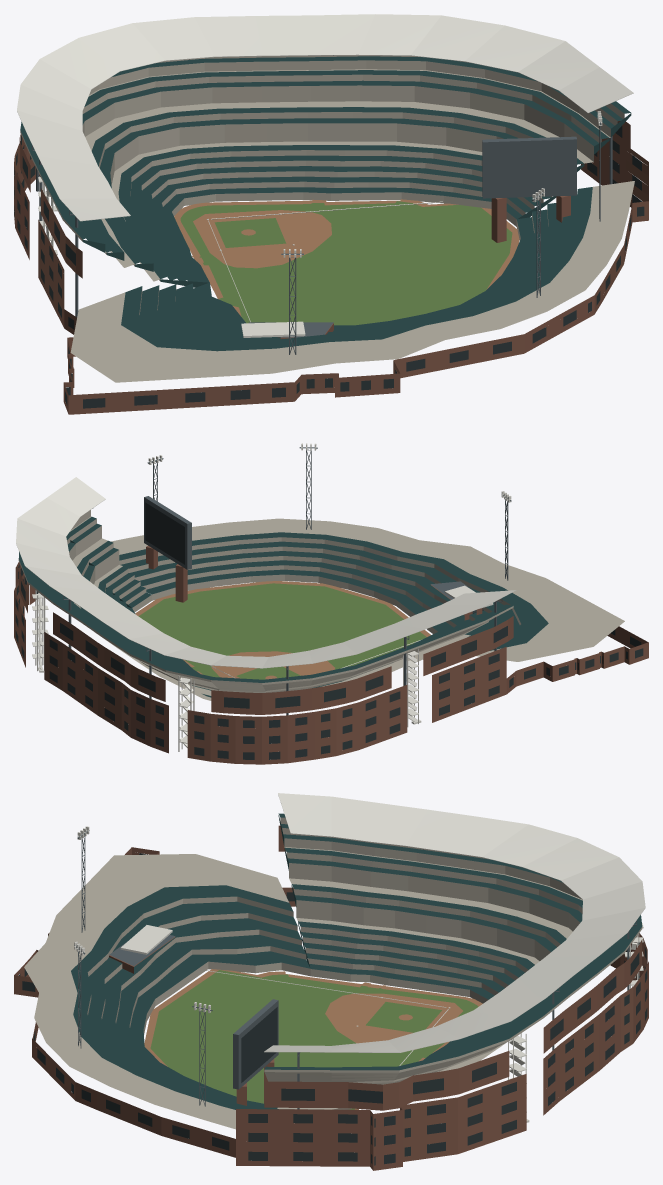
The model's file is truist-park-far.glb.
3 views of the same model, one above another, from view 1: azimuth 30°, elevation 25°; view 2: azimuth 150°, elevation 25°; view 3: azimuth 270°, elevation 25° (orthographic). The views are drawn at different scales.
Visible parts, largest first — view 1: truist-park-0-concrete, truist-park-0-seat, truist-park-0-roof, truist-park-0-grass, truist-park-0-brick, truist-park-0-steel, truist-park-0-dirt, truist-park-0-glow; view 2: truist-park-0-brick, truist-park-0-concrete, truist-park-0-seat, truist-park-0-roof, truist-park-0-grass, truist-park-0-glow, truist-park-0-steel, truist-park-0-dirt; view 3: truist-park-0-concrete, truist-park-0-seat, truist-park-0-brick, truist-park-0-roof, truist-park-0-grass, truist-park-0-glow, truist-park-0-dirt, truist-park-0-steel.
Part boxes in pixels (box(x1,y1,x2,y2)): truist-park-0-concrete: box(20, 55, 634, 382); truist-park-0-seat: box(20, 56, 631, 351); truist-park-0-roof: box(17, 14, 633, 337); truist-park-0-grass: box(180, 201, 512, 325); truist-park-0-brick: box(14, 121, 648, 414); truist-park-0-steel: box(32, 55, 612, 354); truist-park-0-dirt: box(174, 199, 519, 316); truist-park-0-glow: box(14, 126, 644, 408); truist-park-0-brick: box(14, 545, 648, 764); truist-park-0-concrete: box(18, 510, 624, 700); truist-park-0-seat: box(18, 517, 548, 697); truist-park-0-roof: box(16, 443, 516, 751); truist-park-0-grass: box(138, 583, 426, 679); truist-park-0-glow: box(15, 502, 643, 759); truist-park-0-steel: box(63, 447, 511, 715); truist-park-0-dirt: box(135, 581, 430, 679); truist-park-0-concrete: box(24, 817, 642, 1129); truist-park-0-seat: box(71, 813, 642, 1109); truist-park-0-brick: box(14, 825, 648, 1170); truist-park-0-roof: box(74, 793, 645, 1122); truist-park-0-grass: box(150, 970, 478, 1109); truist-park-0-glow: box(18, 853, 647, 1165); truist-park-0-dirt: box(144, 969, 482, 1109); truist-park-0-steel: box(74, 830, 636, 1109).
Size of the model in its own units: 276 by 55 by 243.
